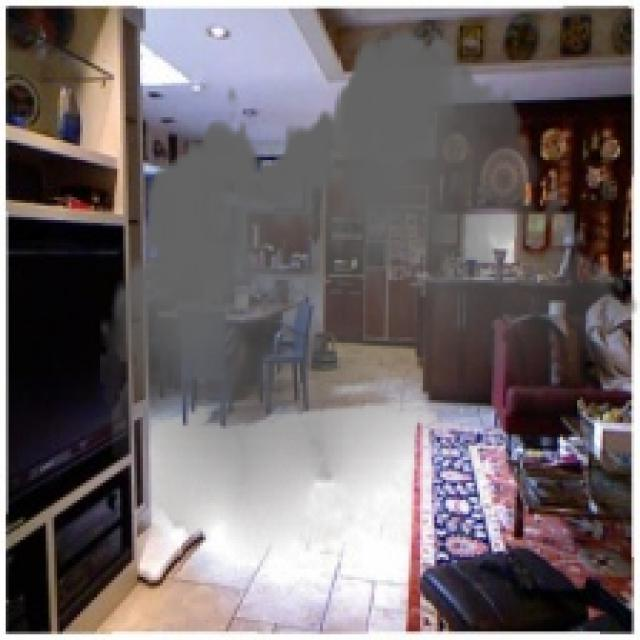smoke: (100, 11, 637, 572)
